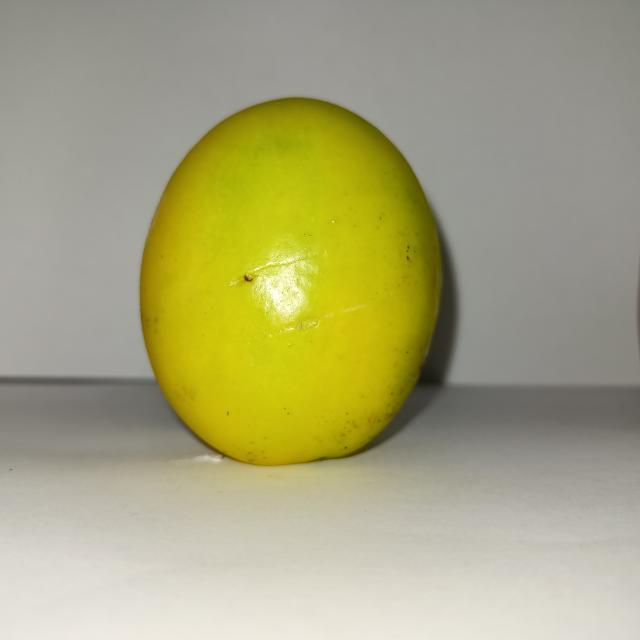Red: (137, 95, 444, 466)
